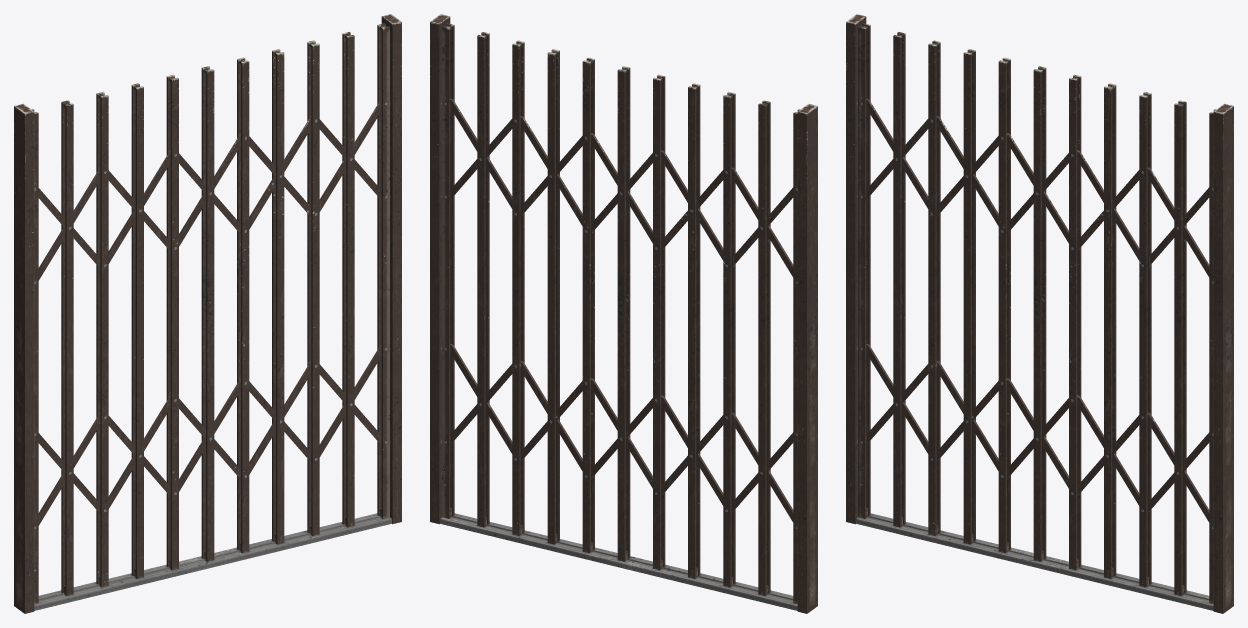
Rendered from entr_fence.fbx.
The picture shows the model from 3 angles, left to right: view 1: azimuth 30°, elevation 25°; view 2: azimuth 150°, elevation 25°; view 3: azimuth 330°, elevation 25°; orthographic projection.
Visible parts, largest first — view 1: entr_fence; view 2: entr_fence; view 3: entr_fence.
Boxes of the visible parts, box(x1,y1,x2,y2) form: entr_fence: box(14, 14, 401, 613); entr_fence: box(430, 14, 817, 613); entr_fence: box(846, 14, 1233, 613).
Size of the model in its own units: 161 by 204 by 8.
Materials: 1 (1 with a texture image).
